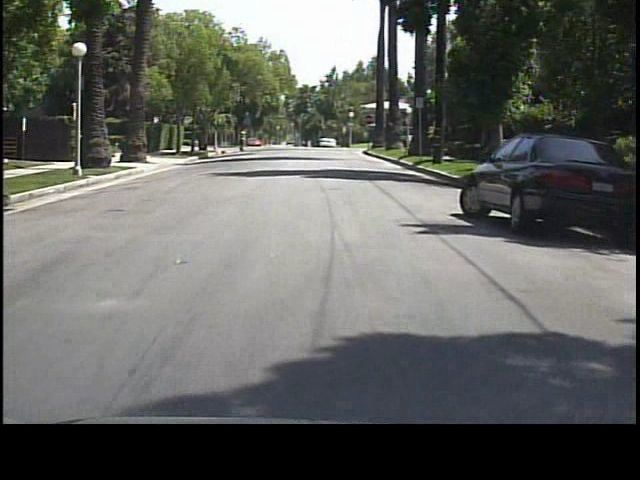person: (236, 128, 251, 157)
